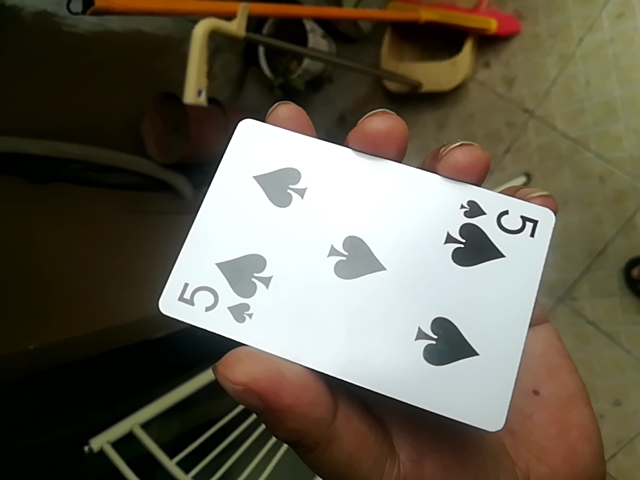ht 5: (150, 111, 567, 435)
